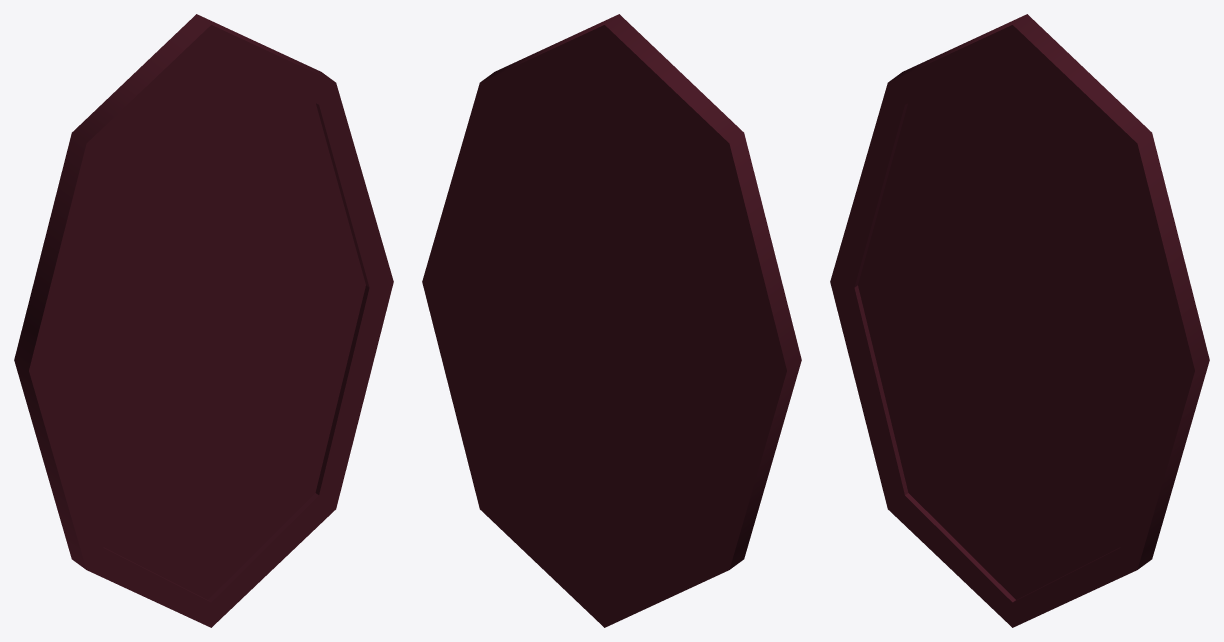
The model's file is Itr_Obj_Frame3_04.FBX.
3 views of the same model, side by side, from view 1: azimuth 30°, elevation 25°; view 2: azimuth 150°, elevation 25°; view 3: azimuth 330°, elevation 25° (orthographic).
Visible parts, largest first — view 1: Itr_Obj_Frame3_04; view 2: Itr_Obj_Frame3_04; view 3: Itr_Obj_Frame3_04.
Boxes of the visible parts, <box> form: Itr_Obj_Frame3_04: <box>14,14,393,627</box>; Itr_Obj_Frame3_04: <box>422,14,801,627</box>; Itr_Obj_Frame3_04: <box>830,14,1209,627</box>.
Size of the model in its own units: 33.22 by 52.47 by 2.32.
